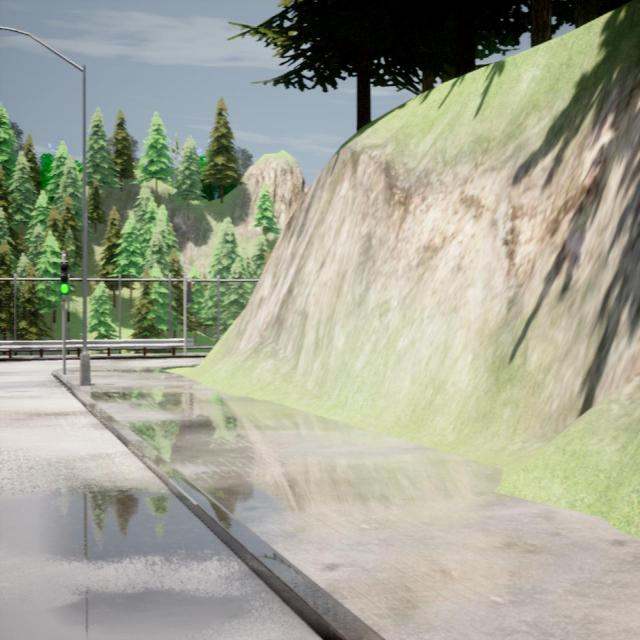traffic_light: (59, 261, 70, 295), (186, 280, 195, 304)
